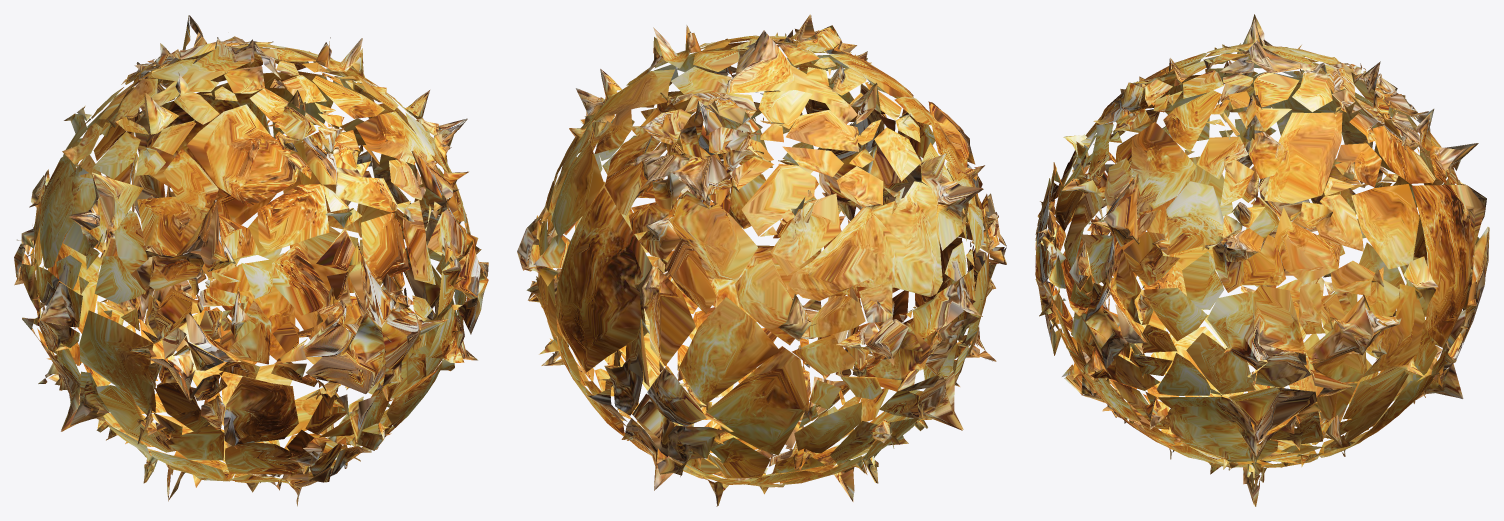
Rendered from MAHWORLD_OVERSIZED_SUN_L0.glb.
3 views of the same model, side by side, from view 1: azimuth 30°, elevation 25°; view 2: azimuth 150°, elevation 25°; view 3: azimuth 270°, elevation 25° (orthographic). The views are drawn at different scales.
Visible parts, largest first — view 1: MAHWORLD_OVERSIZED_SUN_L0; view 2: MAHWORLD_OVERSIZED_SUN_L0; view 3: MAHWORLD_OVERSIZED_SUN_L0.
Part boxes in pixels (x1,y1,x2,y2): MAHWORLD_OVERSIZED_SUN_L0: [14, 15, 488, 506]; MAHWORLD_OVERSIZED_SUN_L0: [517, 14, 1006, 506]; MAHWORLD_OVERSIZED_SUN_L0: [1035, 14, 1489, 506].
Bounding box in the file's own units: 0.9688 × 0.9805 × 0.9225.
1 material, 1 textured.
